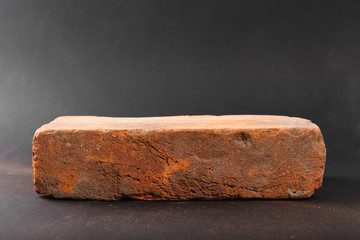brick: (35, 128, 319, 196)
